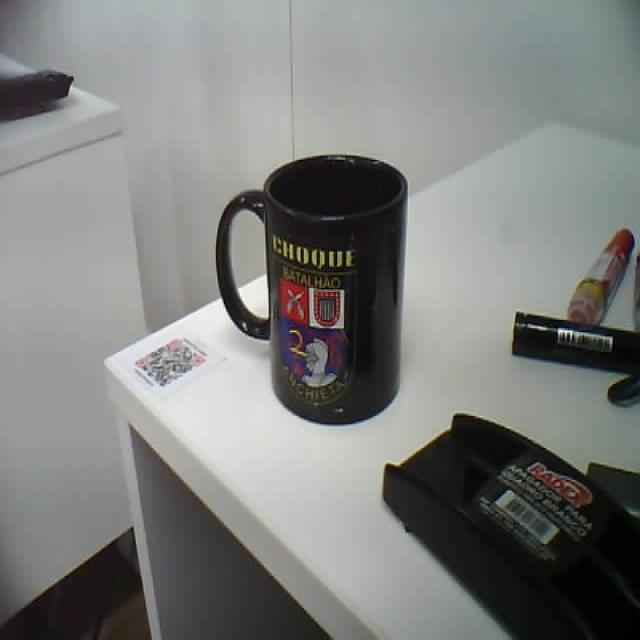caneca: (216, 156, 406, 423)
